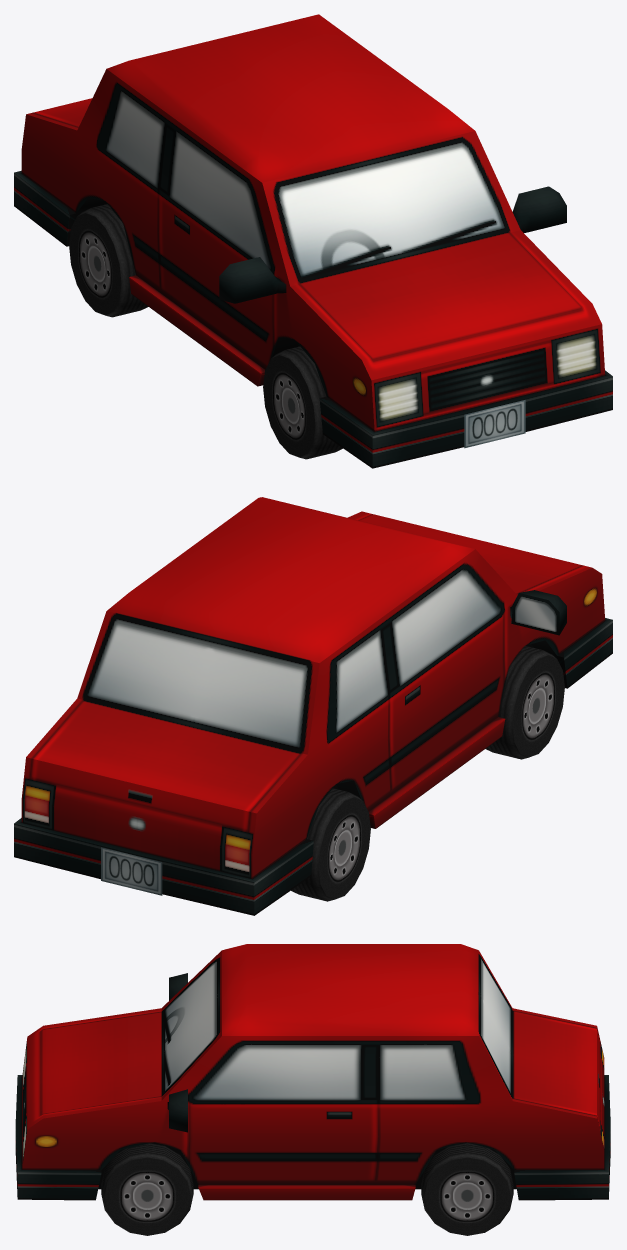
The model's file is car.FBX.
The picture shows the model from 3 angles, top to bottom: view 1: azimuth 30°, elevation 25°; view 2: azimuth 150°, elevation 25°; view 3: azimuth 270°, elevation 25°; orthographic projection. The views are drawn at different scales.
Parts seen in each view (by area): view 1: car_body, car_wheel03, car_wheel01; view 2: car_body, car_wheel01, car_wheel03; view 3: car_body, car_wheel04, car_wheel02.
Part boxes in pixels (left/top/right/bottom): car_body: left=14, top=14, right=612, bottom=468; car_wheel03: left=69, top=204, right=148, bottom=317; car_wheel01: left=263, top=346, right=342, bottom=459; car_body: left=14, top=497, right=612, bottom=915; car_wheel01: left=485, top=645, right=564, bottom=759; car_wheel03: left=291, top=788, right=370, bottom=901; car_body: left=15, top=944, right=610, bottom=1200; car_wheel04: left=421, top=1142, right=513, bottom=1235; car_wheel02: left=101, top=1143, right=193, bottom=1235.
Size of the model in its own units: 49.1 by 34.47 by 90.8.
